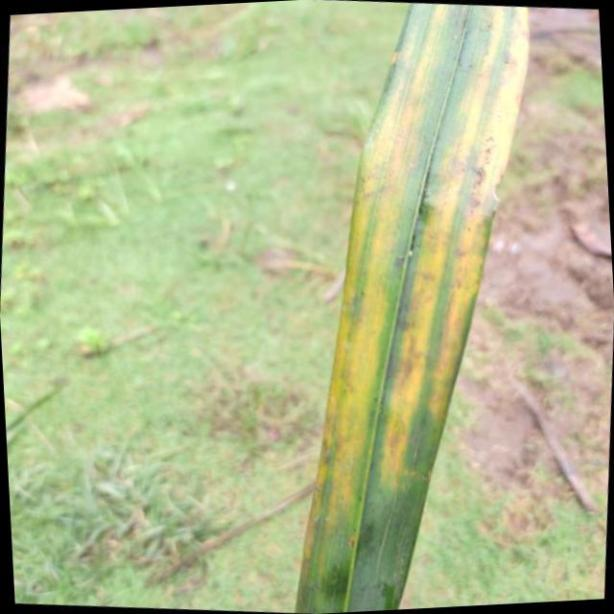Megnesium: (292, 0, 532, 614)
